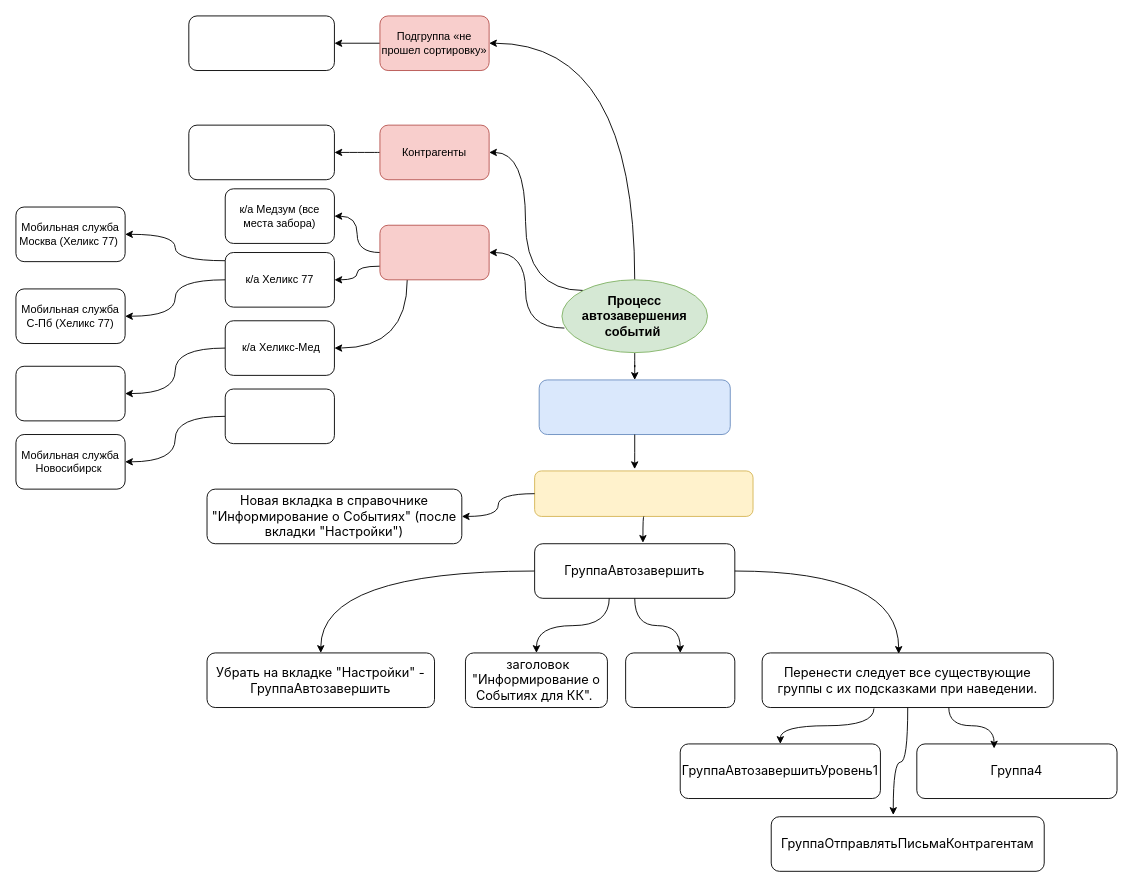
This 1133x887 diagram has some shape labels left out. The centre of each missing label's shape, as x and y in pixels:
Включает: автоинформирование: (x=261, y=43)
Внести изменения: (x=634, y=407)
Имеющие вид: вид к/а: признак Сеть – холдинг Хеликс: (x=261, y=152)
к/а ООО "НПФ"ХЕЛИКС": (x=279, y=416)
Места забора не требуется включать в доработку: (x=434, y=252)
Мобильная служба Екатеринбург: (x=70, y=393)
Отображение: Сильное выделение: (x=680, y=680)
ФормаЭлементаУпр спр HLX_ПодгруппыСобытий: (x=643, y=493)
